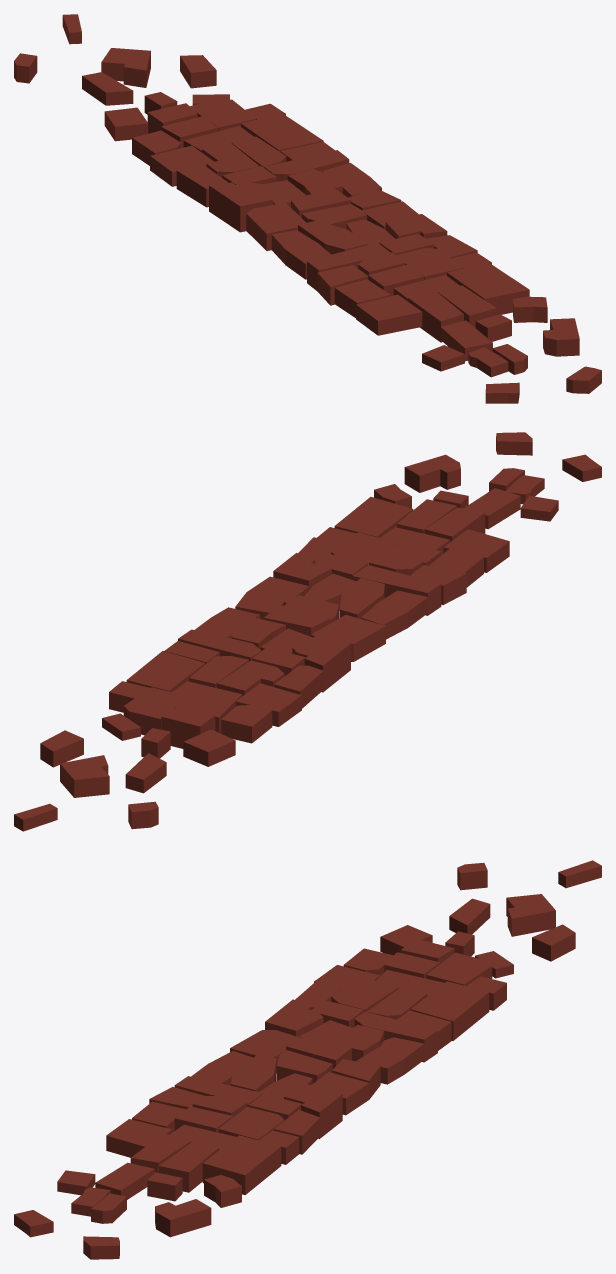
Rendered from ruins_road_001.fbx.
3 renders of one model, top to bottom at view 1: azimuth 30°, elevation 25°; view 2: azimuth 150°, elevation 25°; view 3: azimuth 330°, elevation 25°, orthographic. The views are drawn at different scales.
Parts seen in each view (by area): view 1: ruins_road_001; view 2: ruins_road_001; view 3: ruins_road_001.
Part boxes in pixels (<box>): ruins_road_001: <box>14,14,601,403</box>; ruins_road_001: <box>14,432,601,831</box>; ruins_road_001: <box>14,860,601,1259</box>.
Bounding box in the file's own units: 429 × 2355 × 66.84.
